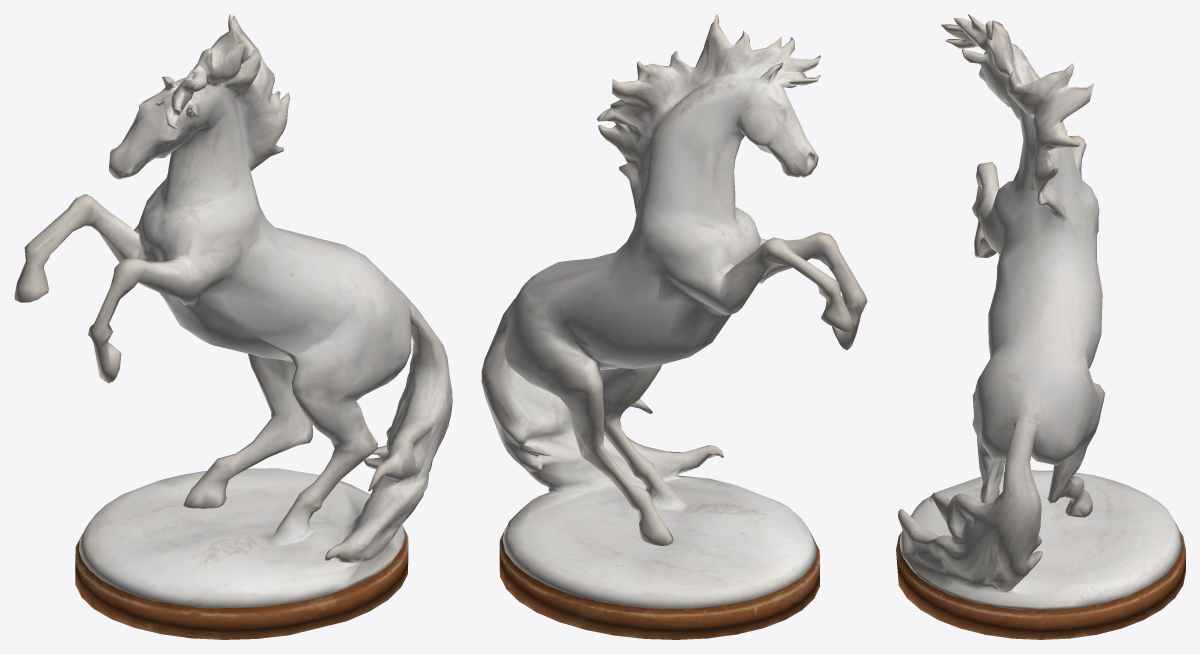
File: ph_horse_statue_01.glb
3 renders of one model, left to right at view 1: azimuth 30°, elevation 25°; view 2: azimuth 150°, elevation 25°; view 3: azimuth 270°, elevation 25°, orthographic. The views are drawn at different scales.
Parts seen in each view (by area): view 1: horse_statue_01; view 2: horse_statue_01; view 3: horse_statue_01.
Part boxes in pixels (x1,y1,x2,y2): horse_statue_01: (14,14,452,639); horse_statue_01: (481,14,867,639); horse_statue_01: (896,14,1185,639).
Size of the model in its own units: 0.1638 by 0.22 by 0.1078.
1 material, 1 textured.
